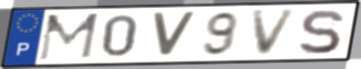0: (99, 13, 142, 59)
9: (200, 10, 242, 58)
M: (35, 11, 102, 63)
S: (296, 8, 345, 56)
V: (249, 7, 300, 58), (149, 11, 199, 59)
